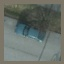car: (14, 23, 45, 43)
